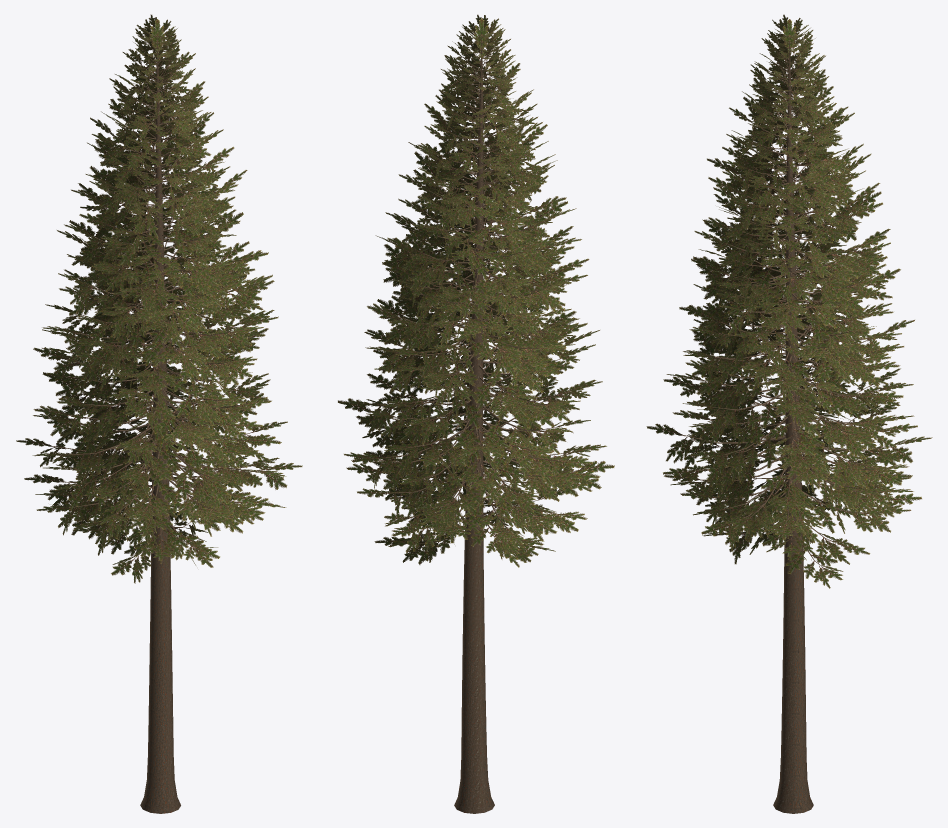
File: fir_giant_a_lod0.gltf
3 views of the same model, side by side, from view 1: azimuth 30°, elevation 25°; view 2: azimuth 150°, elevation 25°; view 3: azimuth 270°, elevation 25° (orthographic).
Visible parts, largest first — view 1: fir_giant_a_LOD0; view 2: fir_giant_a_LOD0; view 3: fir_giant_a_LOD0.
Boxes of the visible parts, bbox=[...] form: fir_giant_a_LOD0: bbox=[16, 14, 302, 813]; fir_giant_a_LOD0: bbox=[338, 14, 614, 813]; fir_giant_a_LOD0: bbox=[646, 14, 932, 813].
Size of the model in its own units: 13.39 by 40.6 by 13.55.
Materials: 2 (2 with a texture image).
